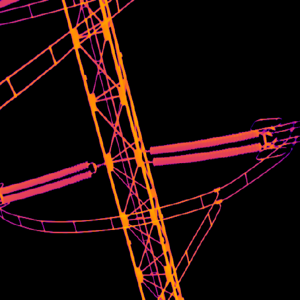insulator: (0, 158, 90, 194), (0, 170, 93, 204), (149, 127, 259, 153), (151, 141, 263, 166)
